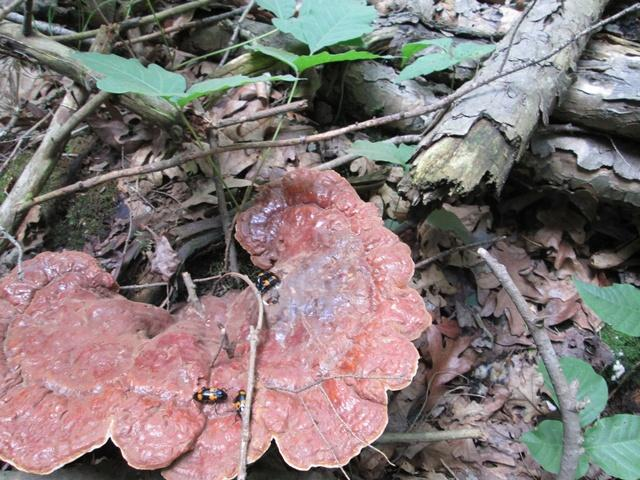Non-edible Mushroom: (1, 162, 420, 480)
